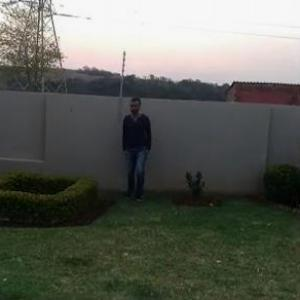follow: (120, 92, 154, 204)
